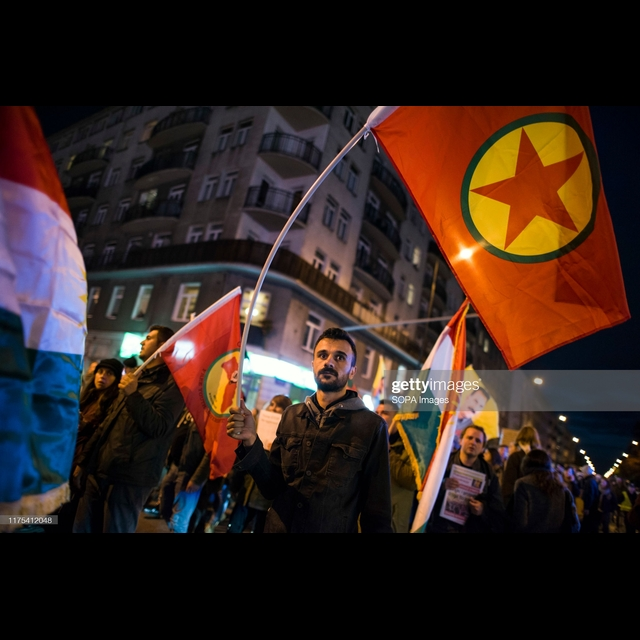PKK: (455, 110, 600, 269)
